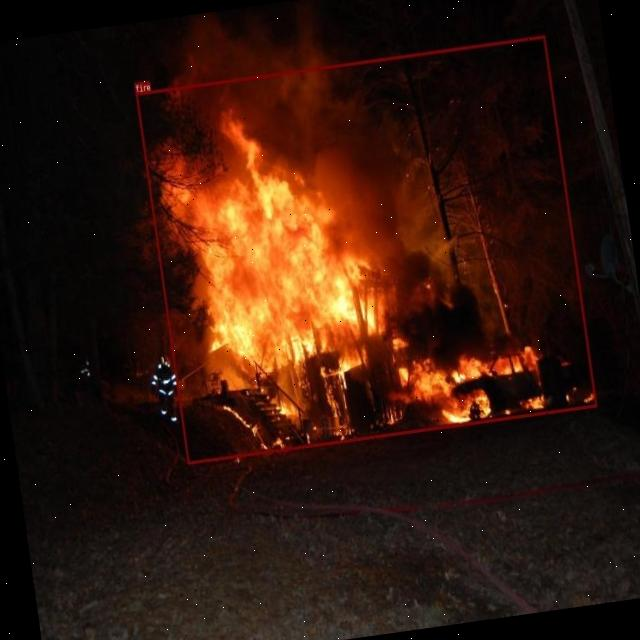fire: (136, 36, 597, 465)
